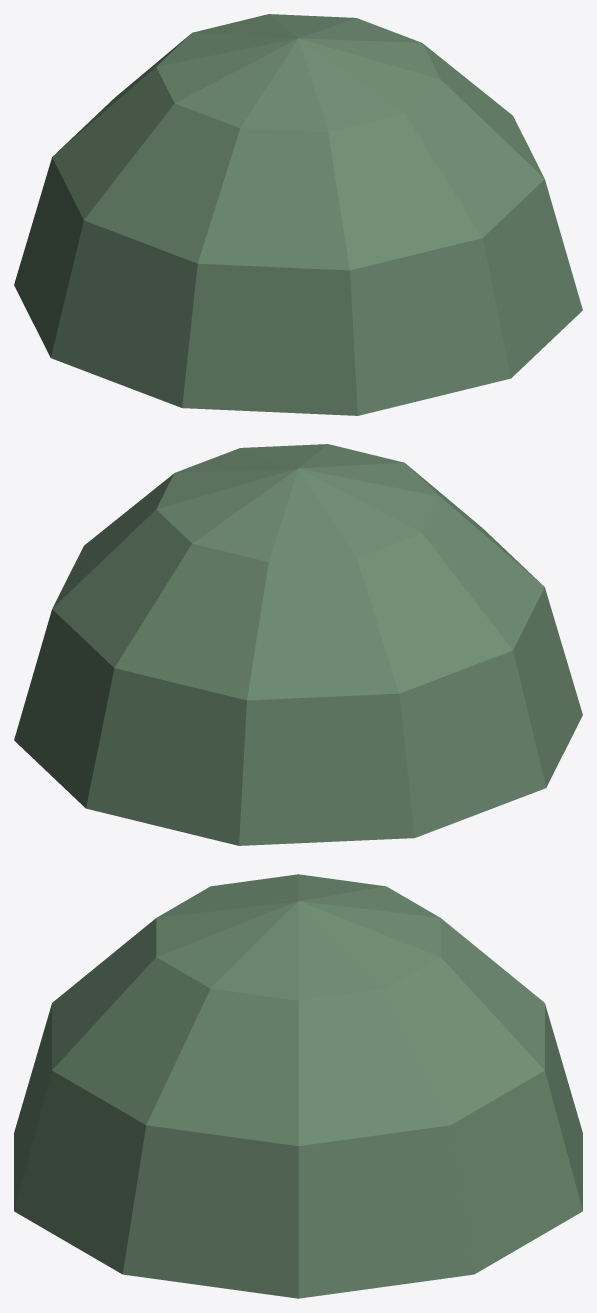
File: plante_5_etape_1.fbx
3 renders of one model, top to bottom at view 1: azimuth 30°, elevation 25°; view 2: azimuth 150°, elevation 25°; view 3: azimuth 270°, elevation 25°, orthographic. The views are drawn at different scales.
Visible parts, largest first — view 1: orange_bud; view 2: orange_bud; view 3: orange_bud.
Part boxes in pixels (x1=…): orange_bud: x1=14, y1=14, x2=582, y2=415; orange_bud: x1=14, y1=444, x2=582, y2=845; orange_bud: x1=14, y1=874, x2=582, y2=1298.
Size of the model in its own units: 0.5916 by 0.2958 by 0.5626.
